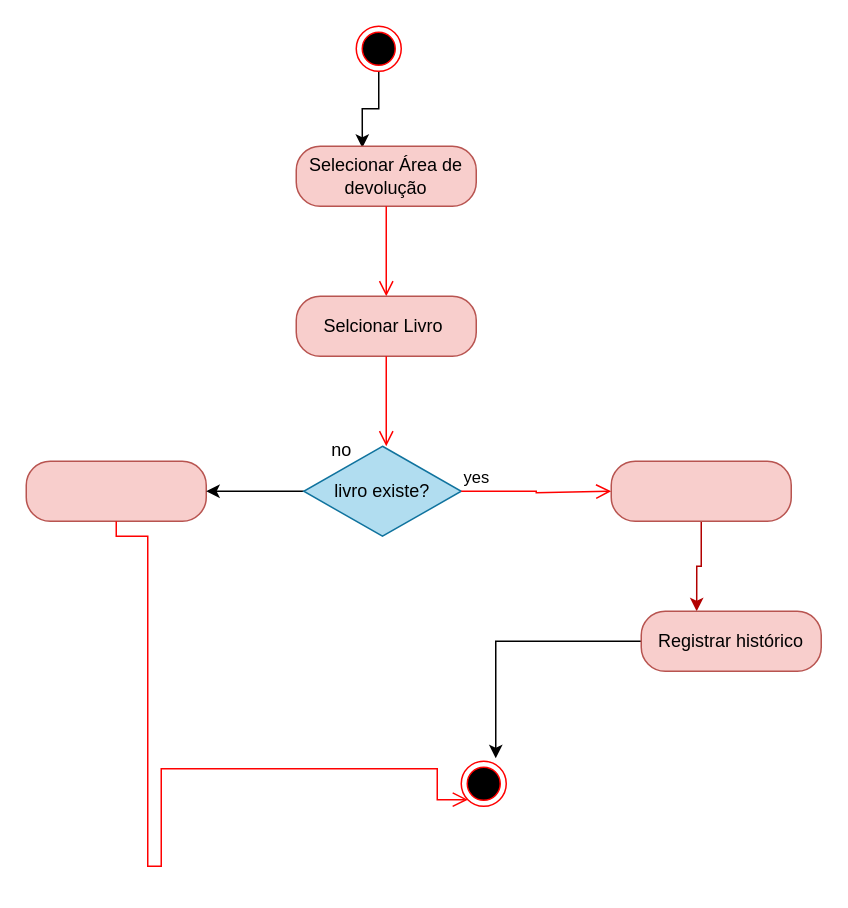
Image size: 848x908. Some labels were removed from this diagram. Each missing label, with the box of its shape:
Mensagem de erro: (25, 460, 206, 521)
Registrar devolução: (610, 460, 791, 521)
